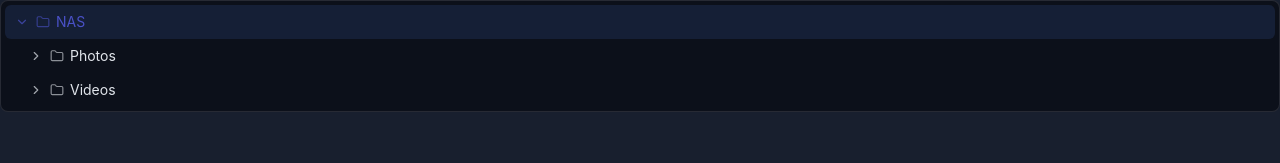
Test case: SmbFolderTree › loads nested folders while siblings stay unloaded
Check: the text "Photos" is shown, box [70,46,116,66]
Click the 1st button named "Expand folder".
click(36, 56)  # box [28,48,44,64]
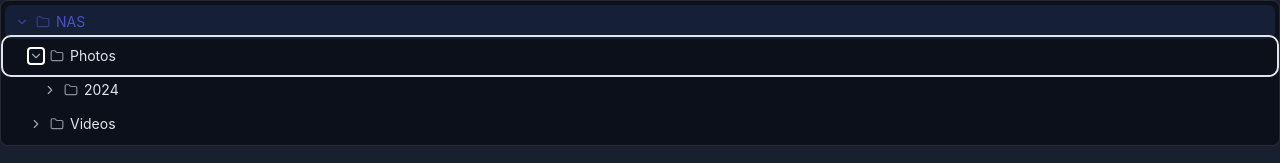
Check: the text "2024" is shown, box [84,80,119,100]
